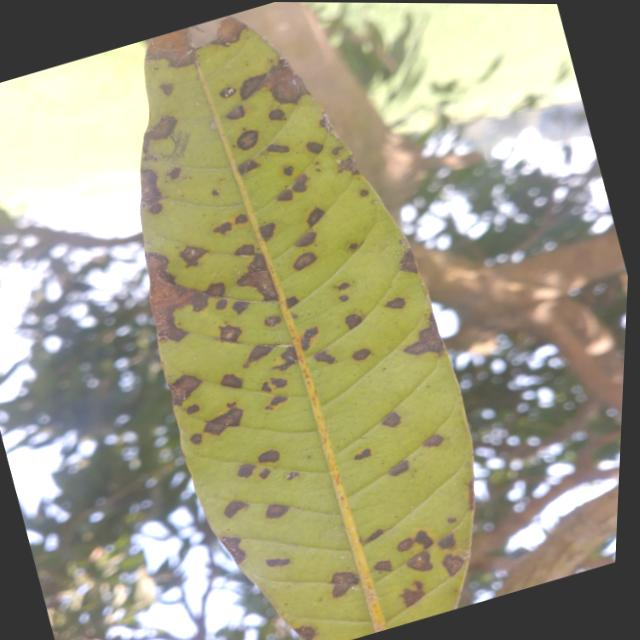Anthracnose: (144, 245, 212, 343), (402, 313, 457, 371), (258, 56, 310, 111), (141, 28, 197, 77), (235, 260, 286, 304), (133, 110, 180, 155), (200, 403, 247, 442), (161, 366, 202, 408), (209, 13, 246, 54), (397, 546, 440, 577), (234, 66, 268, 101), (238, 338, 276, 368), (218, 529, 250, 564), (139, 167, 162, 214), (270, 343, 302, 376), (176, 238, 208, 270), (328, 568, 360, 597), (405, 549, 436, 578), (232, 125, 262, 154), (438, 548, 466, 577), (290, 247, 317, 274), (219, 495, 249, 519), (297, 322, 319, 351), (293, 228, 318, 251), (289, 171, 312, 196), (314, 110, 335, 137), (243, 251, 267, 273), (219, 371, 244, 392), (397, 248, 417, 274), (302, 205, 325, 227), (411, 529, 434, 551), (235, 156, 260, 176), (387, 459, 411, 479), (422, 431, 444, 452), (211, 219, 234, 239), (342, 310, 364, 330), (380, 409, 402, 429), (435, 532, 457, 552), (235, 459, 255, 481), (256, 448, 280, 466), (394, 535, 415, 555), (263, 392, 287, 409), (230, 295, 250, 315), (264, 503, 289, 519), (363, 526, 384, 545), (337, 155, 358, 174), (402, 588, 424, 606), (266, 105, 286, 124), (352, 446, 372, 465), (258, 222, 278, 241), (223, 105, 245, 122), (312, 349, 336, 364), (202, 282, 224, 297), (157, 78, 175, 96), (304, 138, 323, 155), (350, 347, 371, 362), (232, 211, 249, 227), (295, 626, 315, 639), (166, 165, 182, 181), (384, 297, 405, 309), (233, 244, 254, 256), (373, 559, 392, 572), (213, 297, 228, 312), (188, 430, 203, 445), (284, 294, 299, 308), (265, 143, 288, 152), (283, 469, 300, 481), (218, 86, 235, 98), (184, 402, 198, 416), (330, 142, 344, 156), (257, 466, 271, 480), (265, 558, 289, 566), (275, 189, 291, 201), (468, 479, 474, 510), (264, 315, 280, 326), (259, 381, 271, 394), (445, 514, 457, 525), (347, 243, 360, 251), (283, 165, 293, 175), (210, 188, 219, 197), (338, 295, 348, 301), (359, 189, 367, 196)
